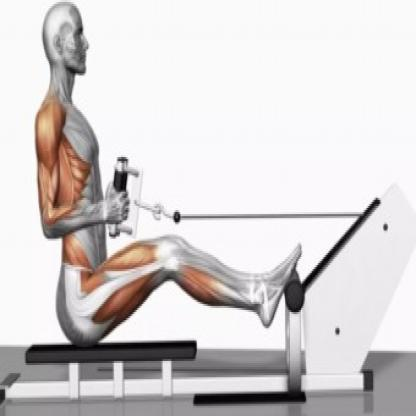Seated Cable Rows: (1, 6, 416, 416)
